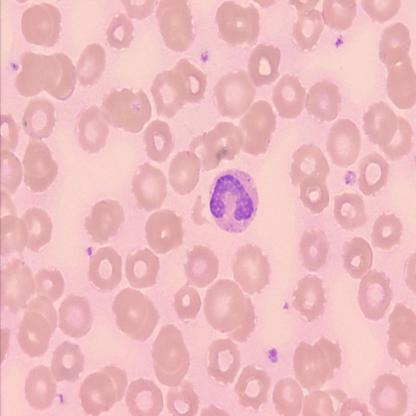Band Neutrophil: (206, 166, 262, 238)
